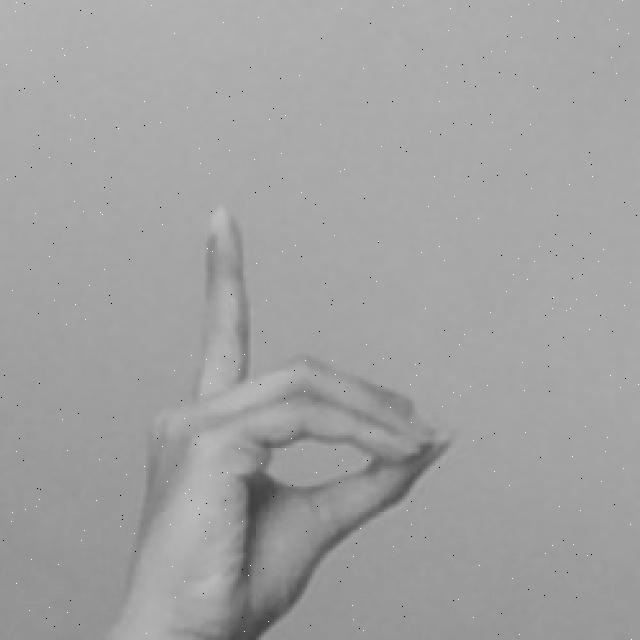D: (90, 196, 462, 640)
